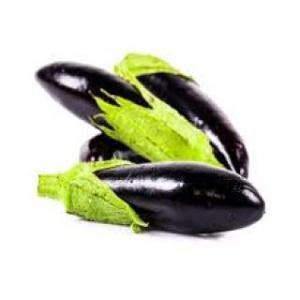eggplant: (38, 61, 204, 163), (39, 160, 266, 232)
